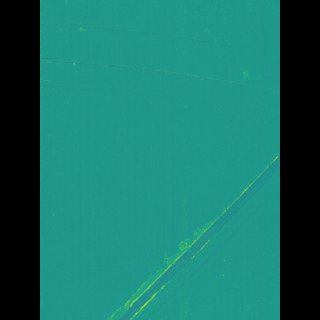Loch: (117, 148, 251, 319), (70, 72, 230, 117), (69, 54, 227, 92), (69, 17, 220, 49)
